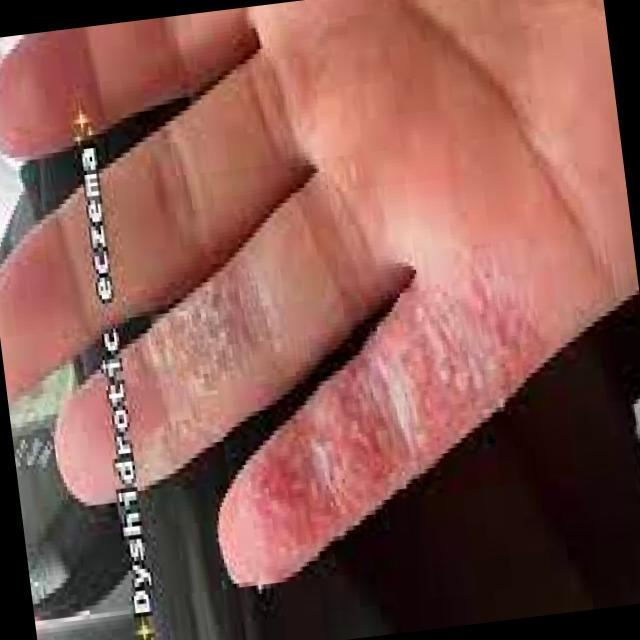Eczema: (243, 276, 530, 576), (140, 270, 301, 474)
